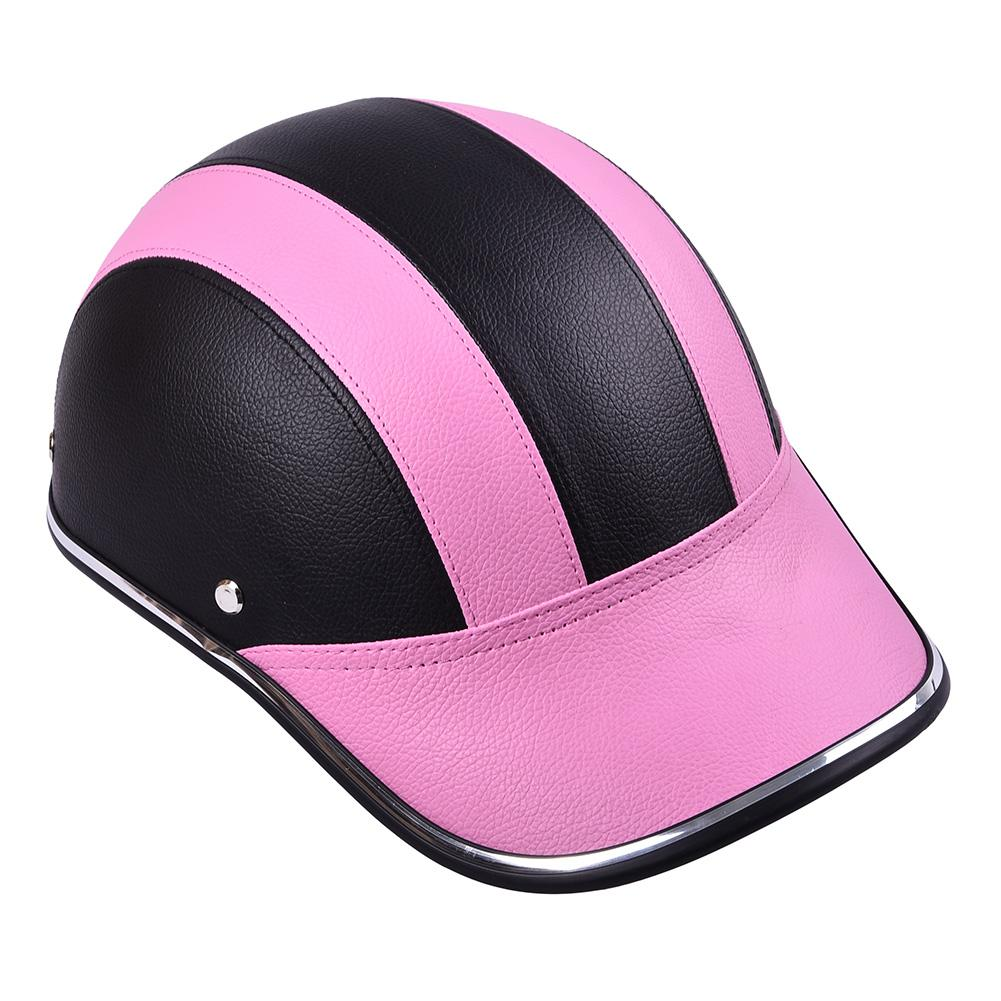Helmet: (32, 88, 965, 901)
